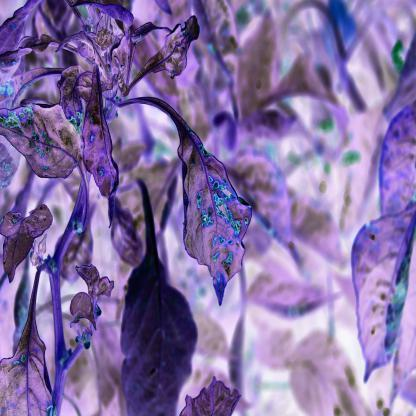Tomato leaf late blight: (163, 111, 258, 308), (346, 198, 412, 389), (5, 85, 75, 180), (78, 74, 128, 204)
